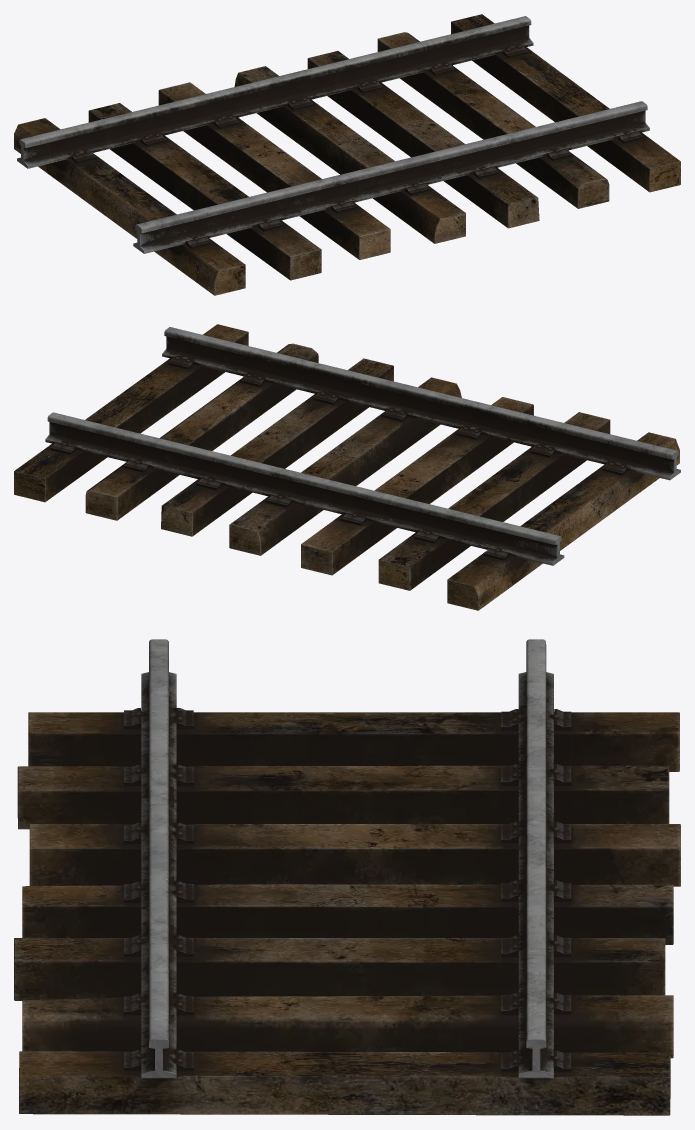
File: new_rail_small.glb
The picture shows the model from 3 angles, top to bottom: view 1: azimuth 30°, elevation 25°; view 2: azimuth 150°, elevation 25°; view 3: azimuth 270°, elevation 25°; orthographic projection. The views are drawn at different scales.
Parts seen in each view (by area): view 1: railroad_gav_railroad_gav_0; view 2: railroad_gav_railroad_gav_0; view 3: railroad_gav_railroad_gav_0.
Boxes of the visible parts, x1,y1,x2,y2 form: railroad_gav_railroad_gav_0: (14,14,680,295); railroad_gav_railroad_gav_0: (14,324,680,610); railroad_gav_railroad_gav_0: (14,639,680,1115).
Size of the model in its own units: 4 by 0.3712 by 2.82.
1 material, 1 textured.
